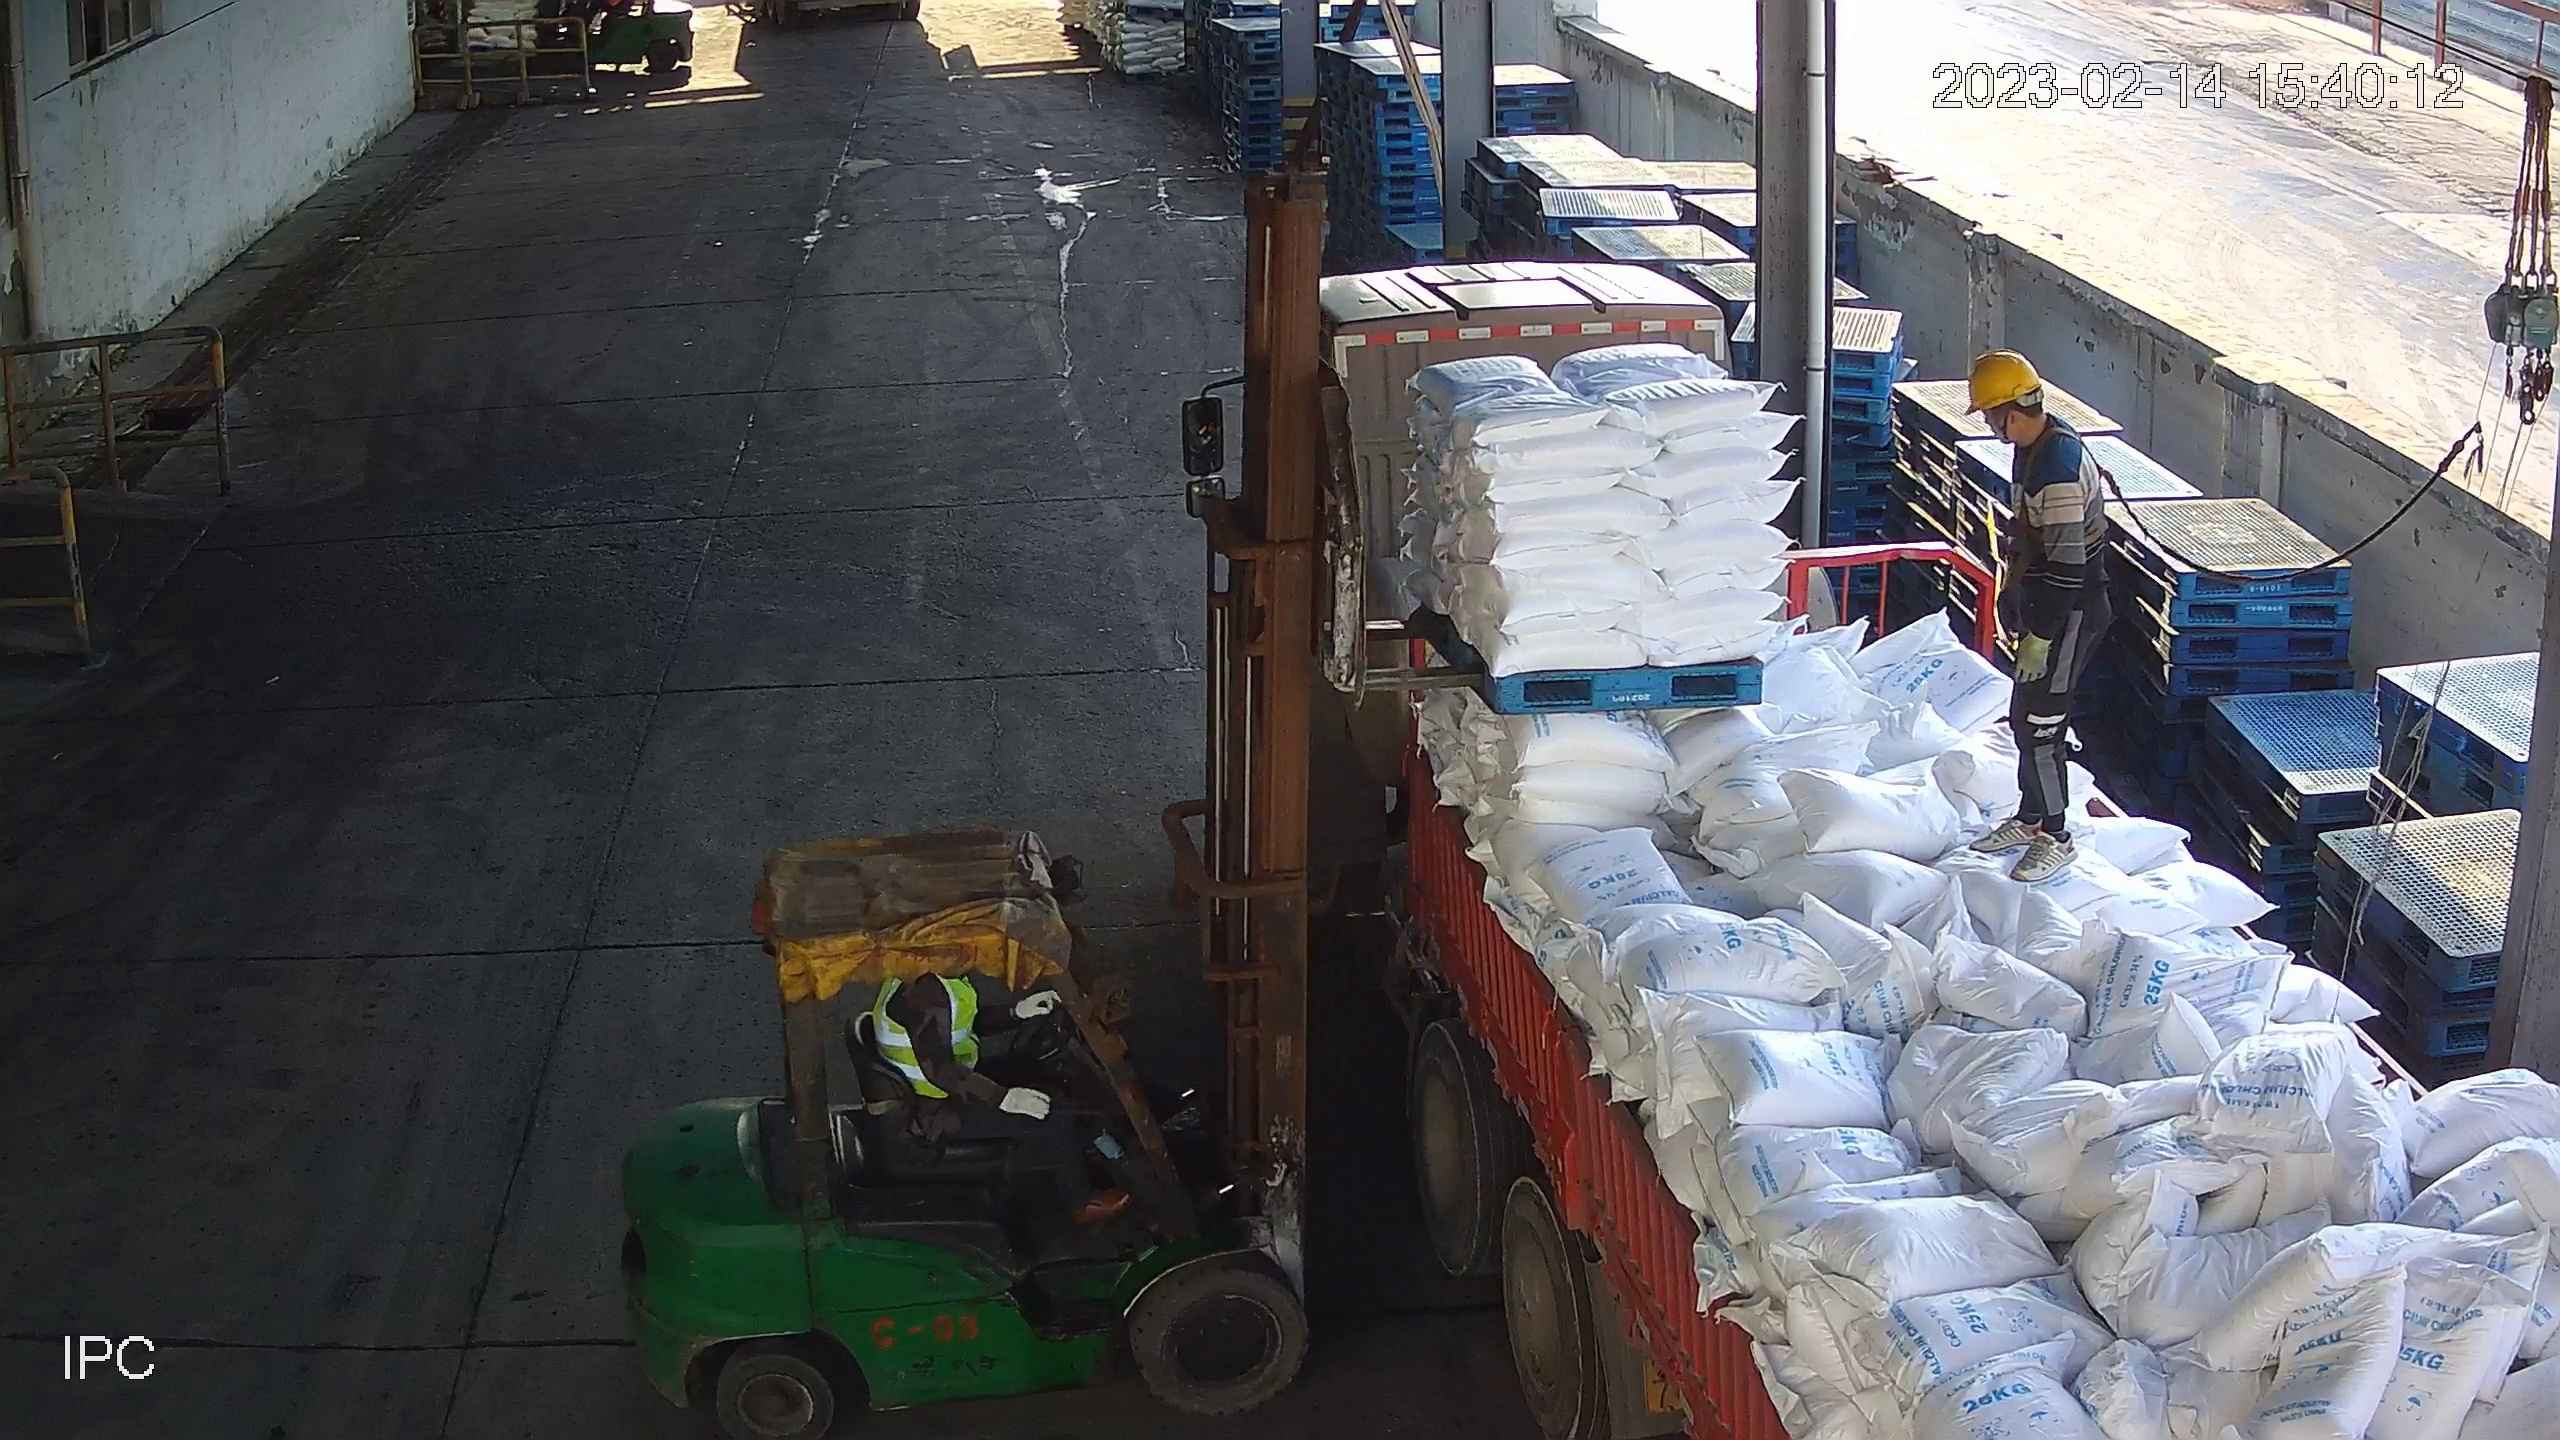belt: (2011, 434, 2121, 564)
head: (1962, 350, 2102, 485)
helmet: (1965, 348, 2046, 413)
people: (1962, 344, 2116, 886), (867, 969, 1146, 1223)
truck: (1170, 257, 2560, 1440)
